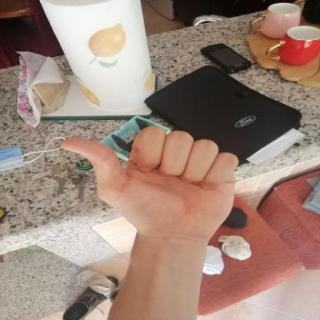DAD: (51, 118, 248, 248)
